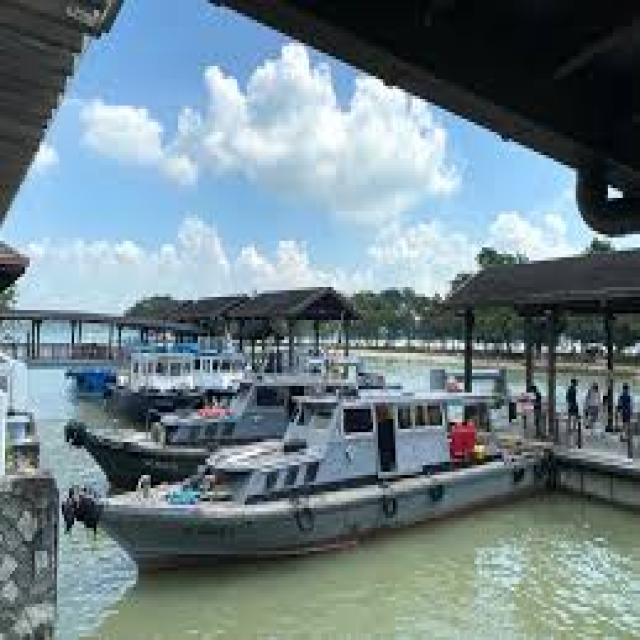fishing boat: (57, 359, 550, 561)
